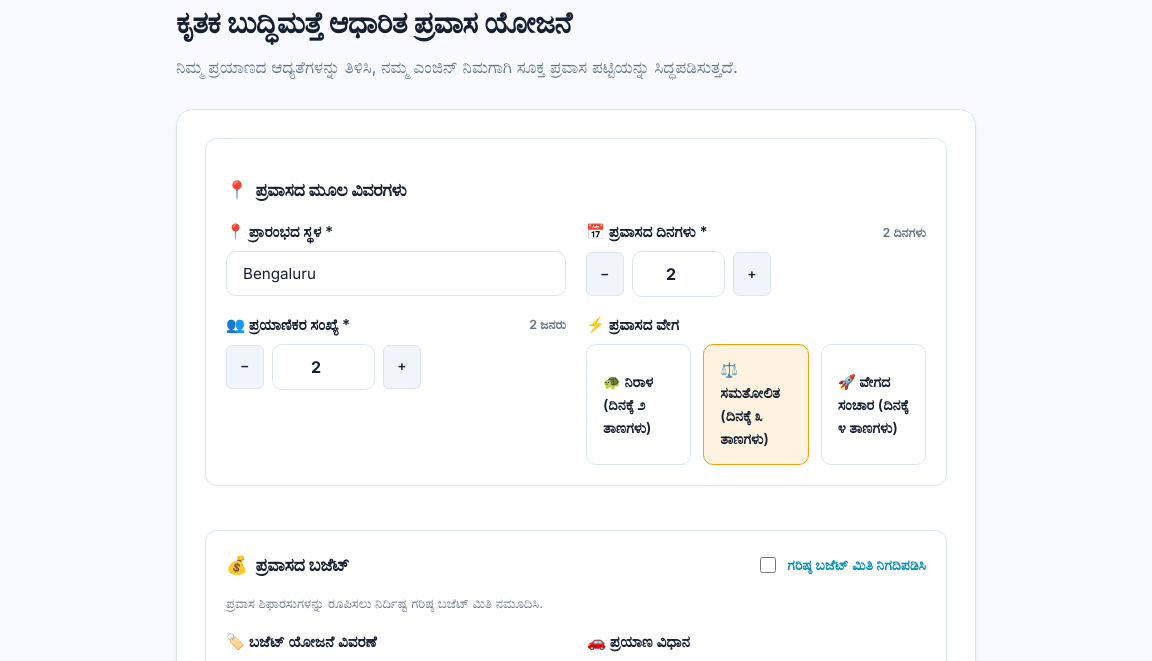
Test: TripPlannerForm Numeric Inputs & Transport Mode (Workstreams A, C, D) › provides bilingual Kannada labels and error messages
Expected: the text "📅 ಪ್ರವಾಸದ ದಿನಗಳು *" is shown, 586,220 -> 708,245
Expected: the text "👥 ಪ್ರಯಾಣಿಕರ ಸಂಖ್ಯೆ *" is shown, 226,313 -> 350,337
Replace the text in the number field with test id "planner-duration-input" with "10" at (678, 274), box 632,251 -> 725,297
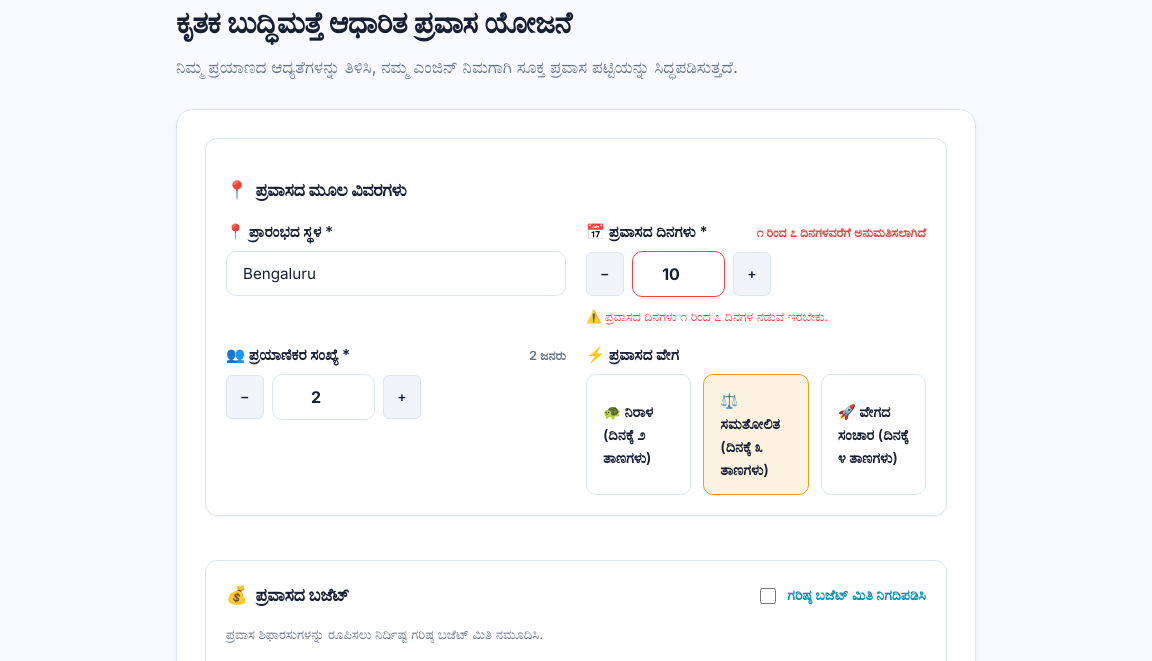
Now the text "⚠️ ಪ್ರವಾಸದ ದಿನಗಳು ೧ ರಿಂದ ೭ ದಿನಗಳ ನಡುವೆ ಇರಬೇಕು." is shown, box 586,309 -> 828,324
